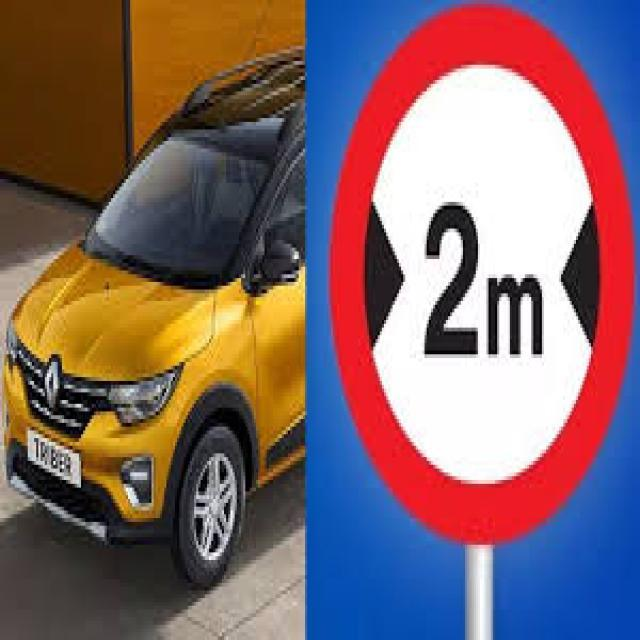width limit: (335, 26, 629, 544)
